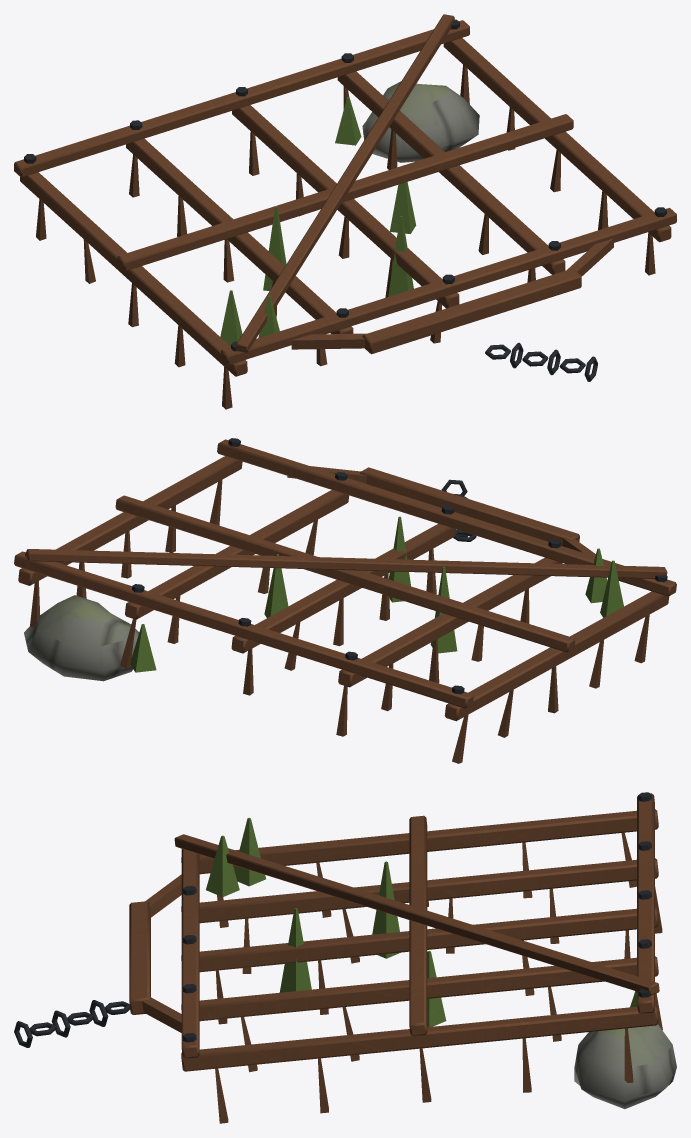
File: harrow_rusty.glb
3 views of the same model, one above another, from view 1: azimuth 30°, elevation 25°; view 2: azimuth 150°, elevation 25°; view 3: azimuth 270°, elevation 25° (orthographic). The views are drawn at different scales.
Visible parts, largest first — view 1: harrow_rusty; view 2: harrow_rusty; view 3: harrow_rusty.
Boxes of the visible parts, left/top/right/bottom form: harrow_rusty: left=14, top=14, right=676, bottom=409; harrow_rusty: left=14, top=438, right=676, bottom=763; harrow_rusty: left=14, top=792, right=676, bottom=1123.
Bounding box in the file's own units: 1.71 × 0.5422 × 1.94.
Materials: 5 (5 with a texture image).
